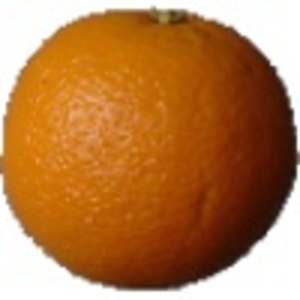laranja: (2, 2, 297, 293)
